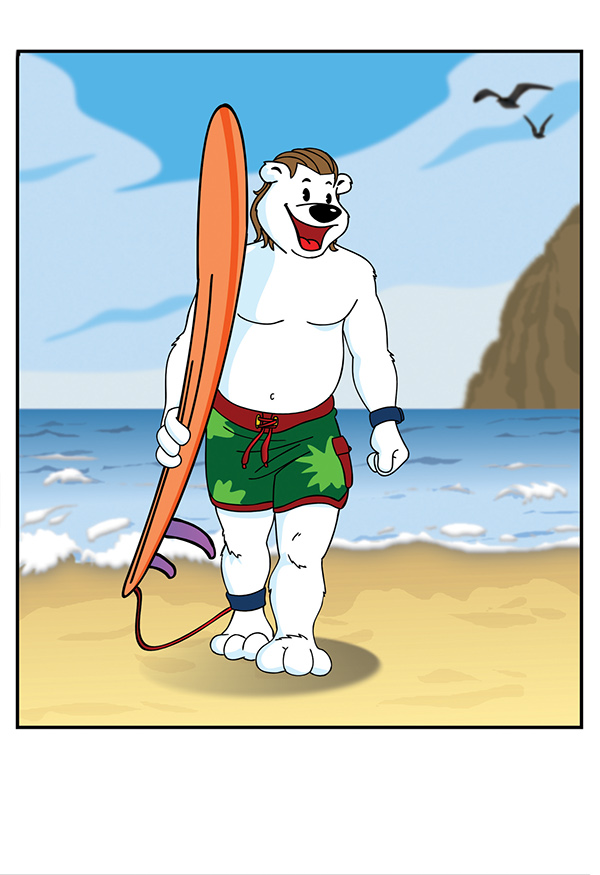bird: (432, 62, 576, 170)
